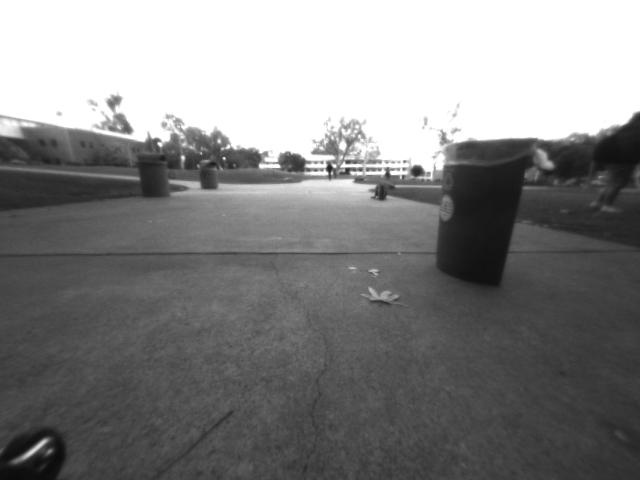trashcan: (432, 131, 547, 298)
